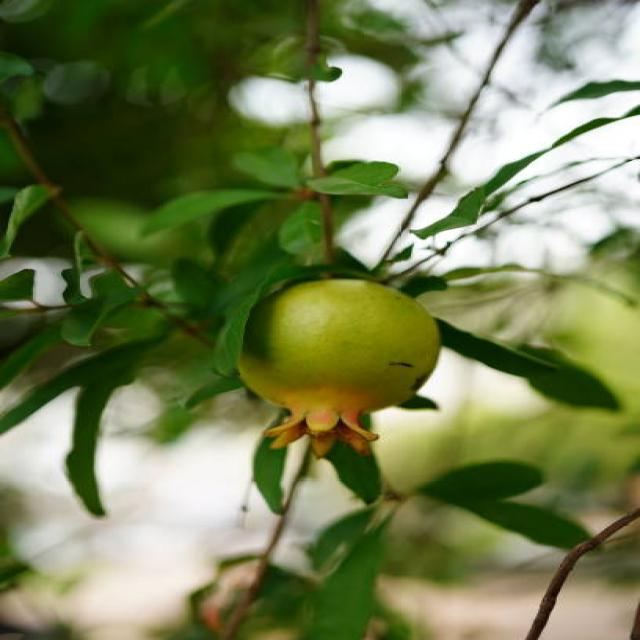Unripe: (234, 275, 440, 458)
